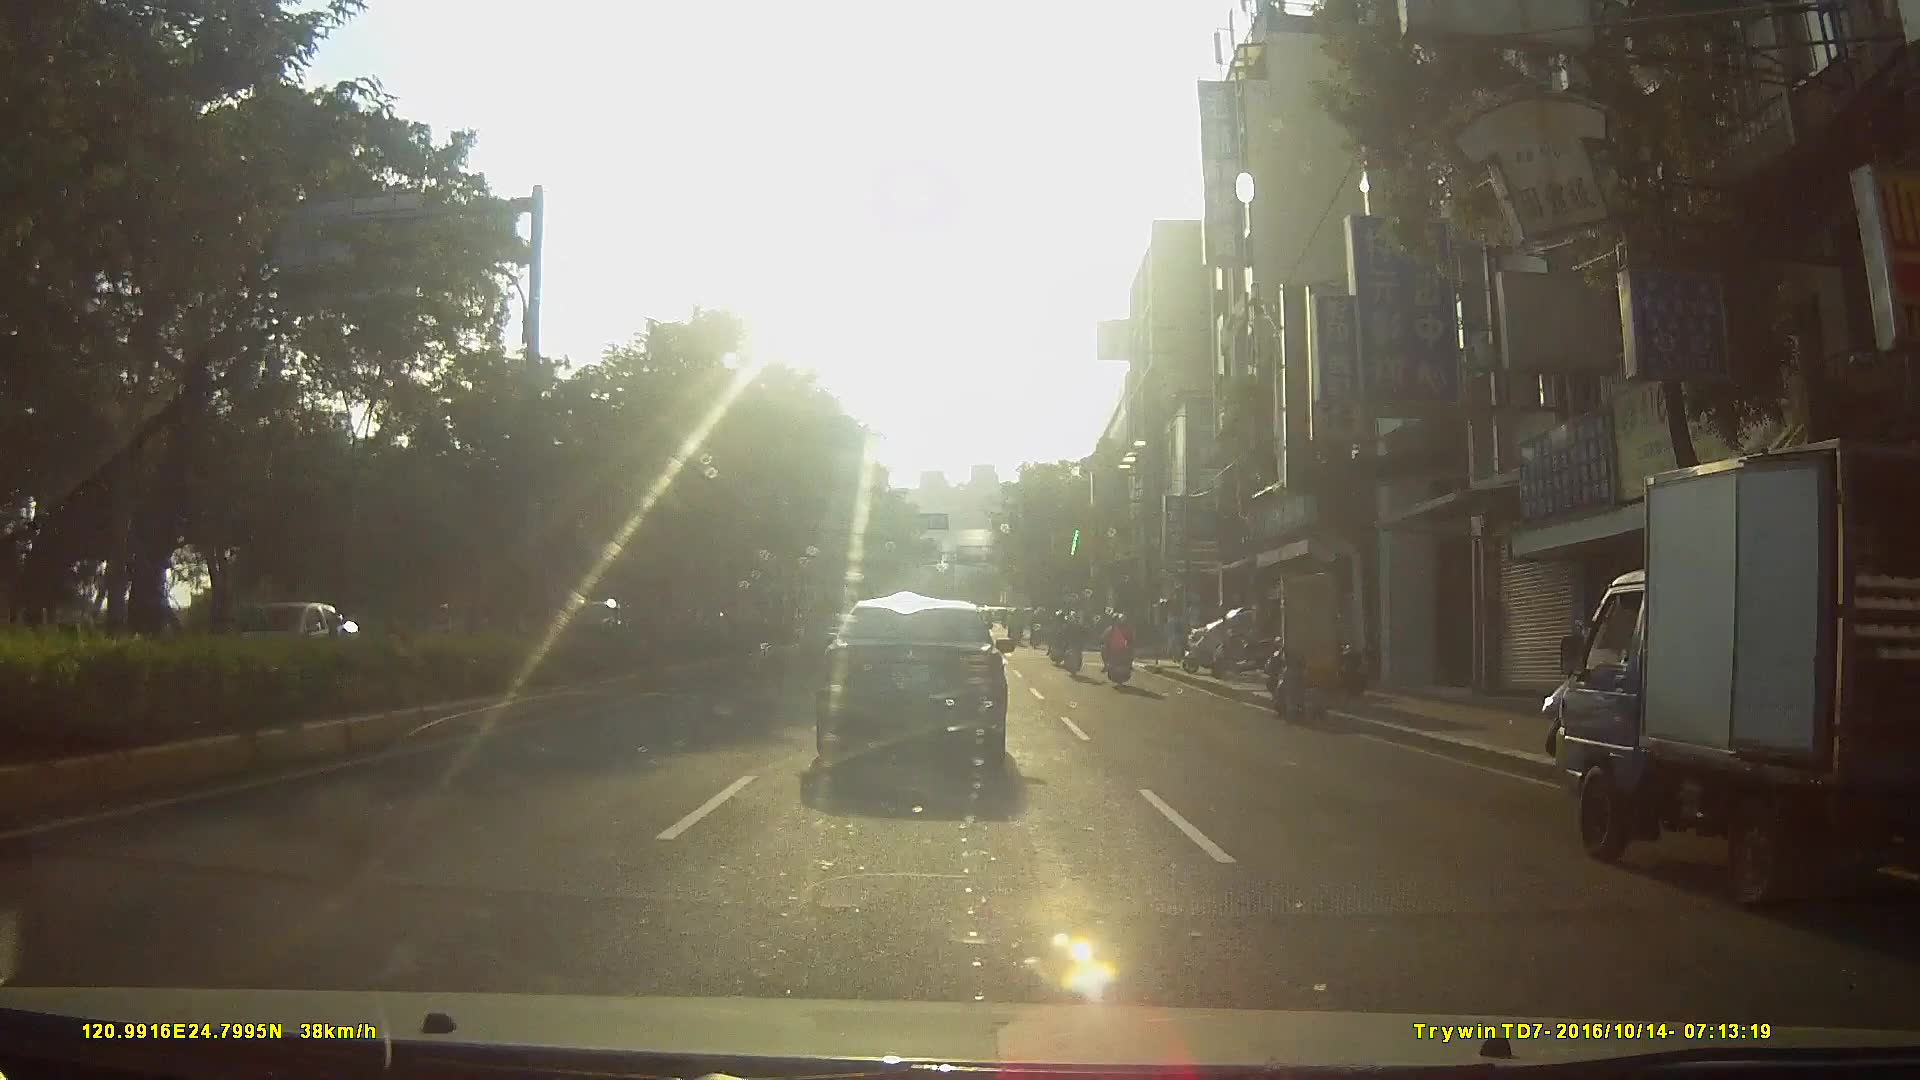rider: (1101, 617, 1136, 695), (1062, 611, 1087, 680), (1050, 609, 1071, 669)
vehicle: (1546, 432, 1920, 892), (810, 595, 1019, 783), (200, 599, 362, 672)
